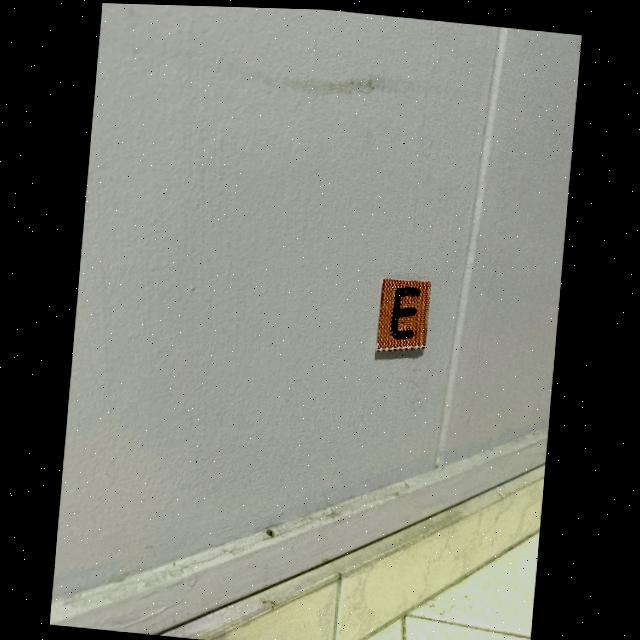E: (393, 284, 420, 336)
